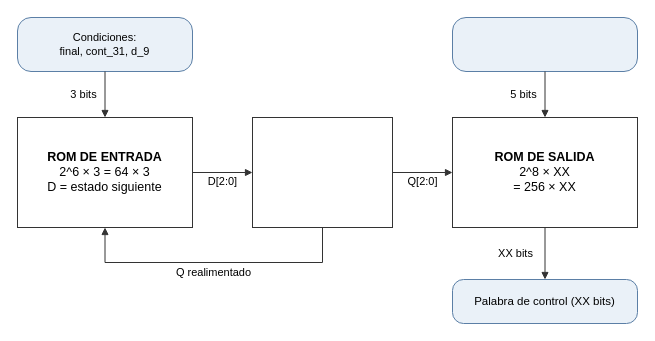
Image size: 655x341. Some labels were removed from this diagram. The centre of each missing label's shape, as x and y in pixels:
Condiciones (Mealy): final, val_neg, cont_31, dig_4, d_9: [545,44]
REGISTRO DE ESTADO 3 flip-flops D clk / rst: [322,172]
